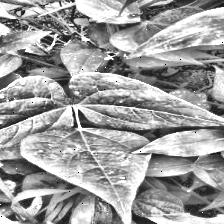Bean Rust: (20, 126, 150, 224), (60, 72, 224, 130), (0, 75, 74, 158)
